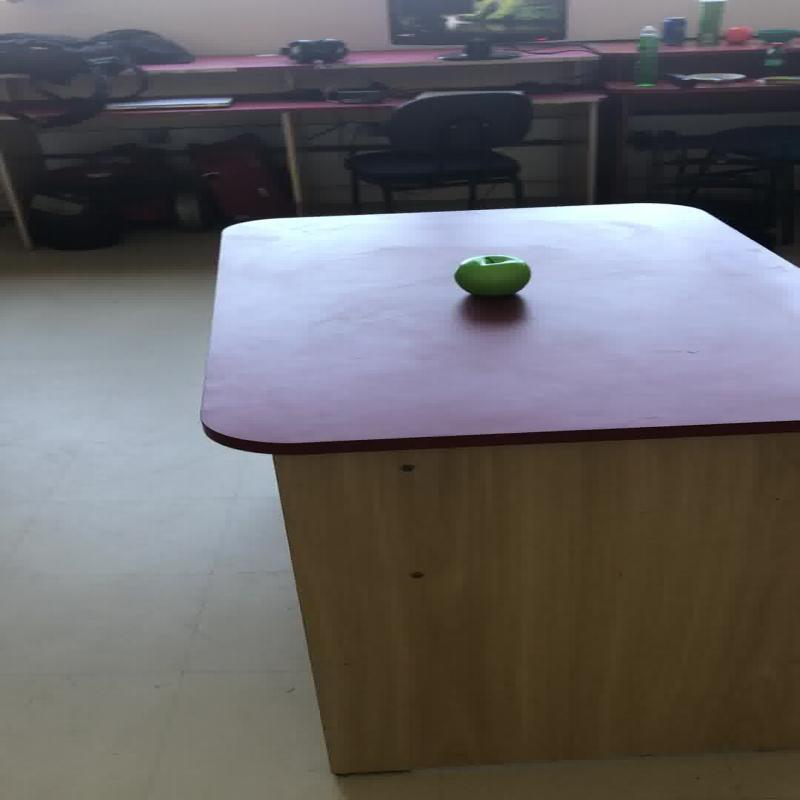apple: (453, 254, 530, 296)
